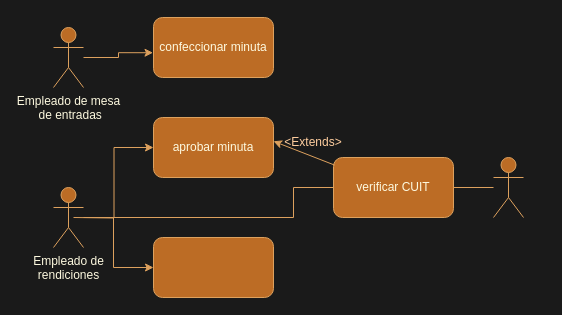
Image size: 562x315. Some labels were removed from this diagram. Each missing label, with the centre of its shape:
"imprimir listado de minutas" belongs at (213,267).
"servidor AFIP" belongs at (508,187).
